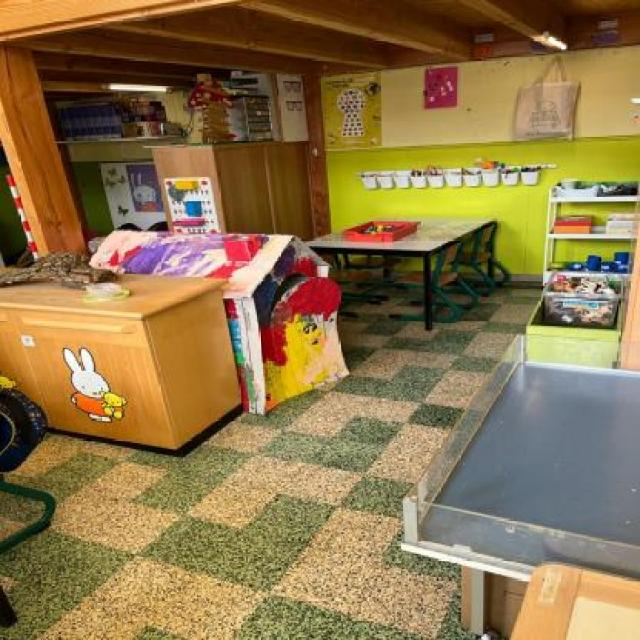floor: (2, 281, 541, 640)
